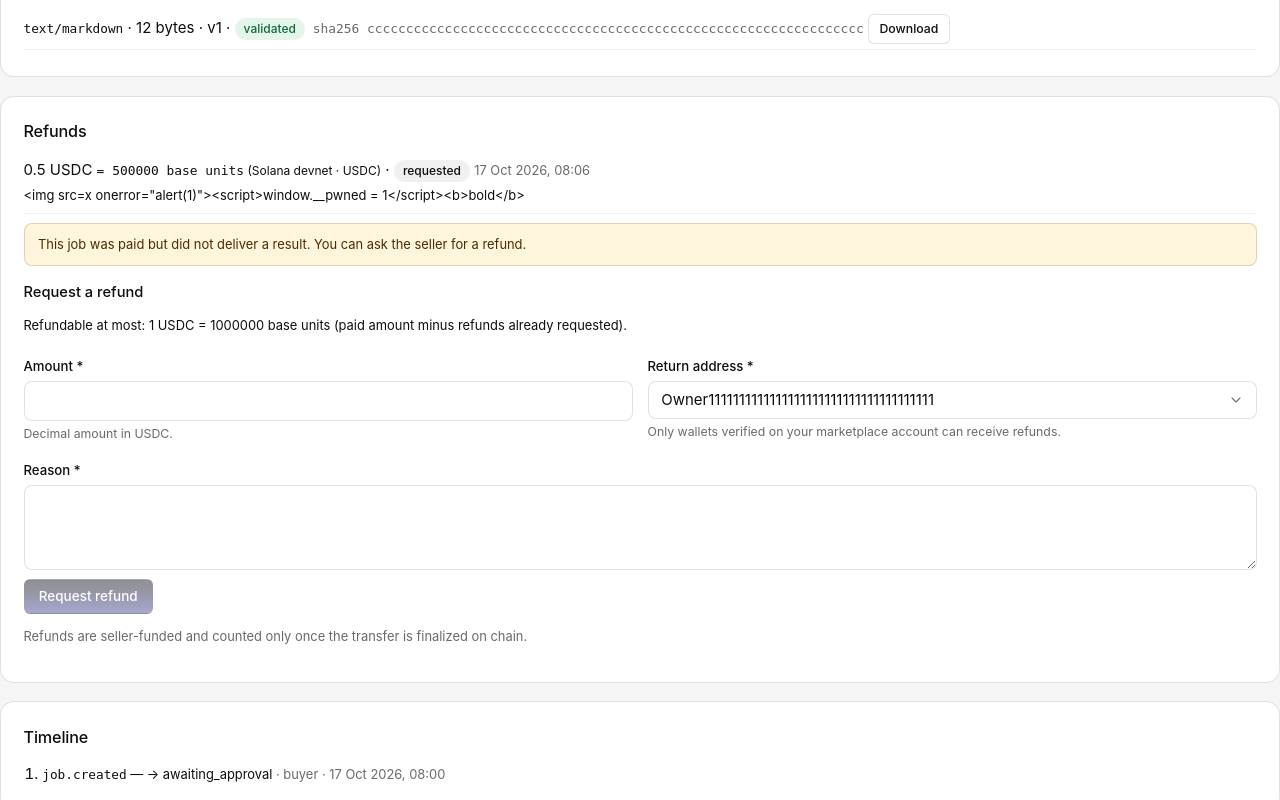
Test: untrusted content › refuses refund amounts above what is left to refund
(page scrolled)
Type "1.000001" into the field labelled "Amount *" at (328, 401), box 24,381 -> 632,421
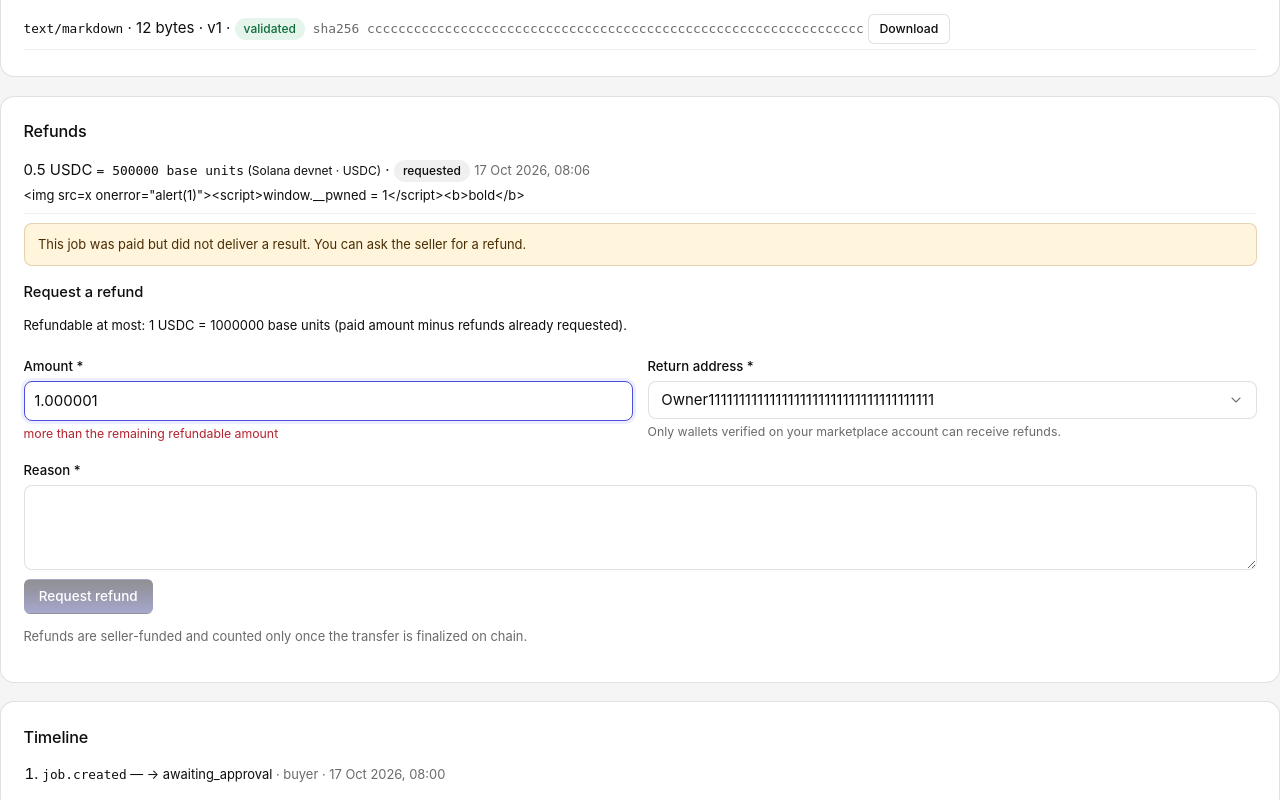
Expected: the button "Request refund" is disabled, 24,579 -> 153,614
Result: the text "more than the remaining refundable amount" is shown at 24,426 -> 278,441
